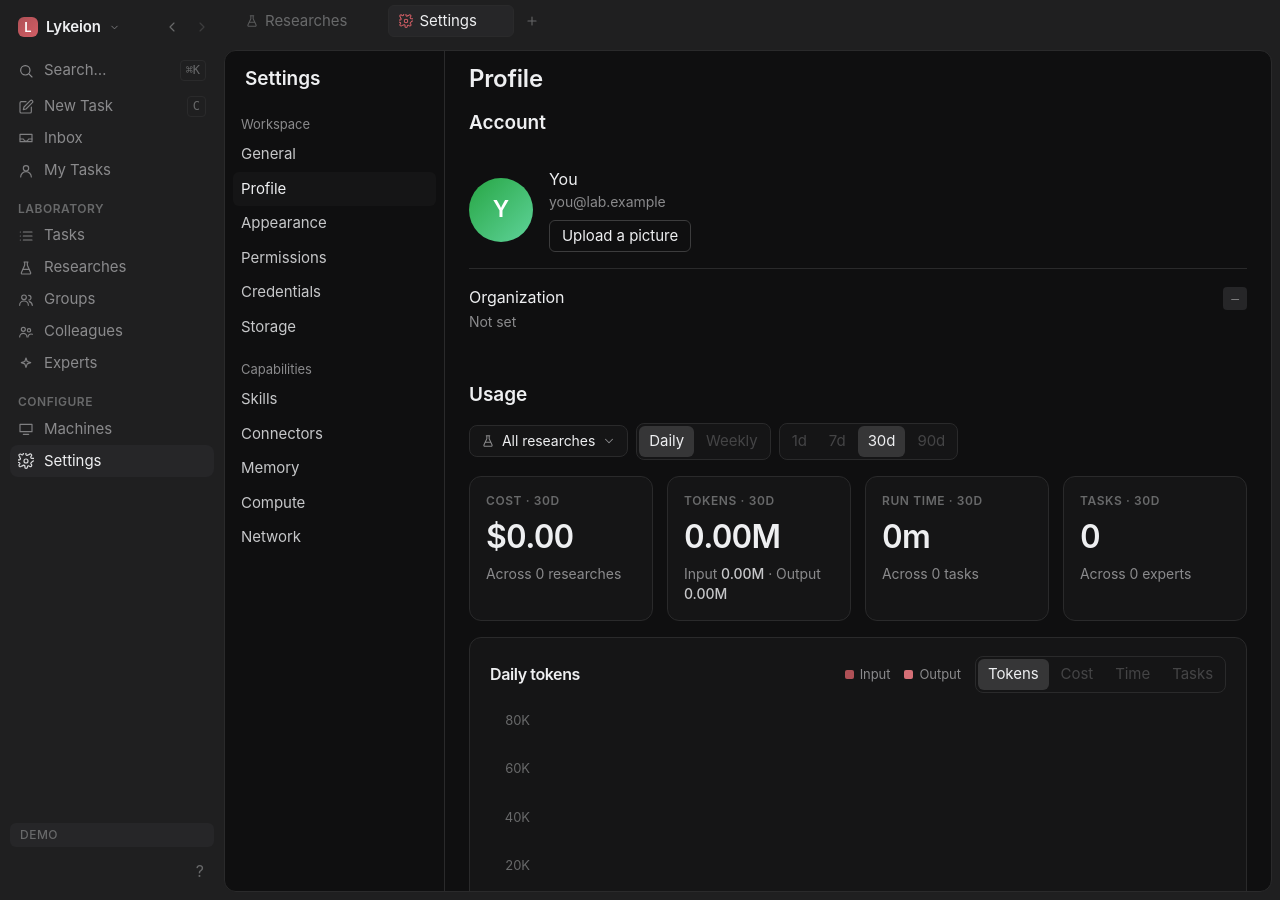
Test: shows the reader's initials until they upload a picture
Click the link "Settings": (112, 461) [10, 445, 214, 477]
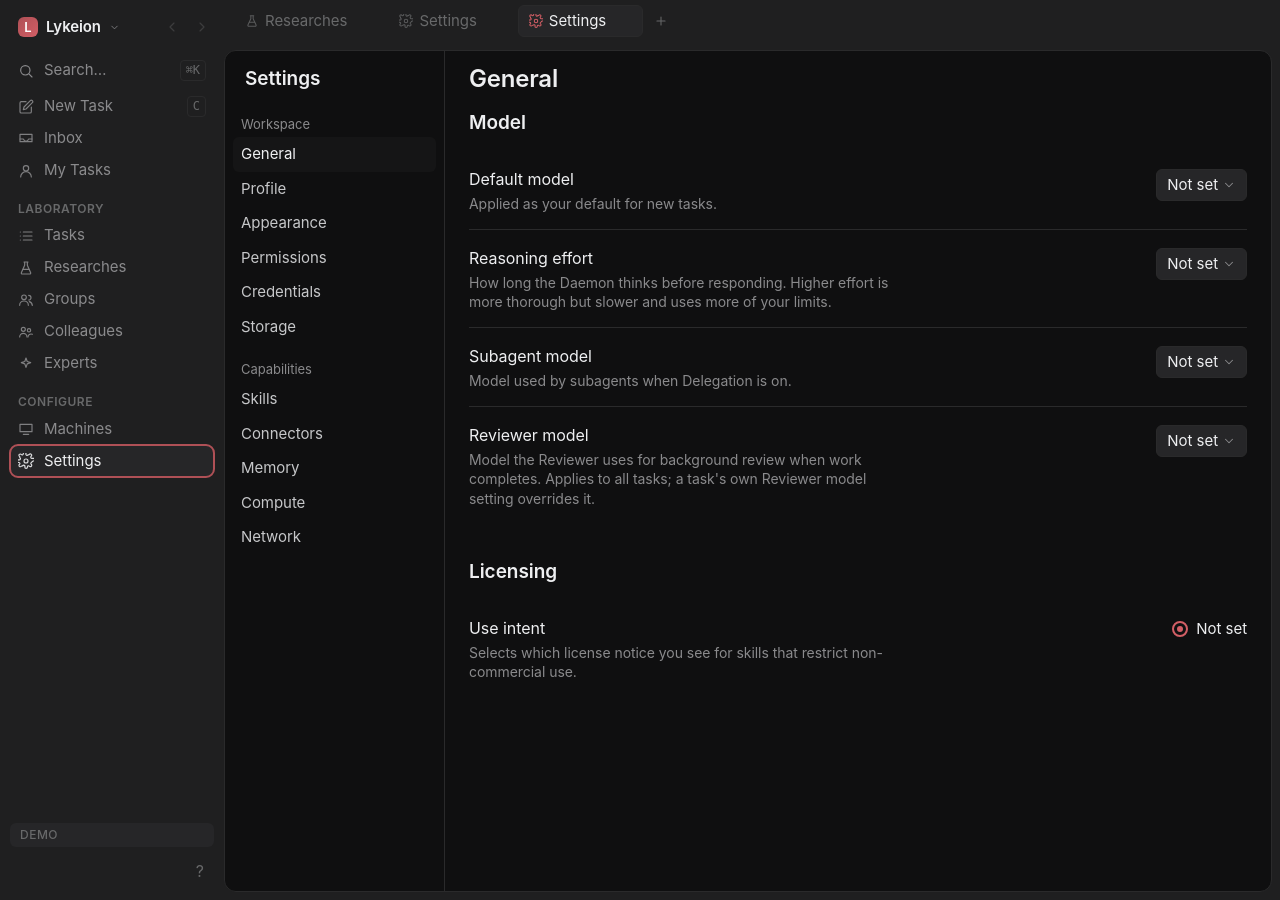
Click the button "Profile": (334, 189) [233, 172, 436, 206]
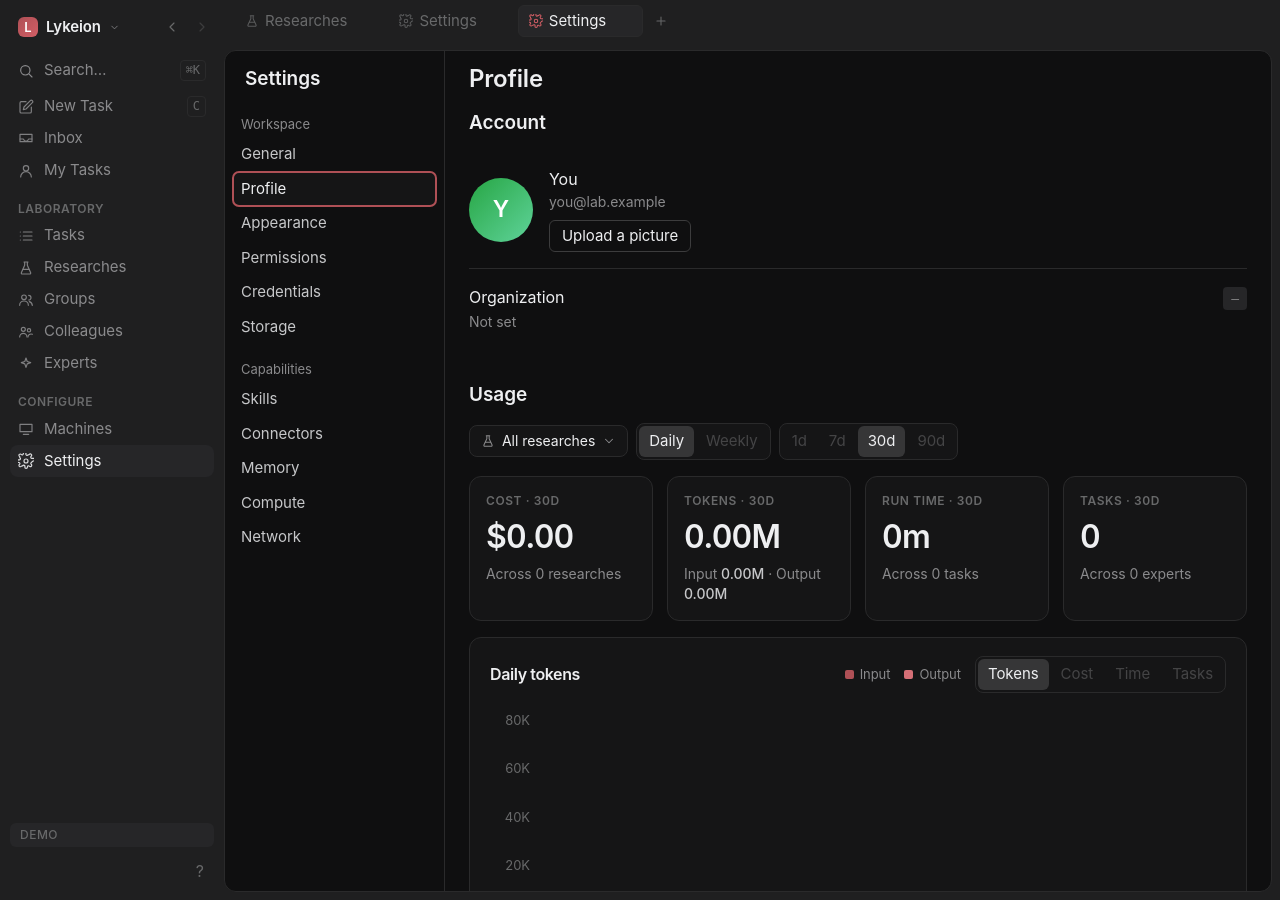
Result: the text "Y" is shown at [469, 178, 533, 242]
Result: the file field "Upload a picture" is shown at [549, 220, 691, 252]
